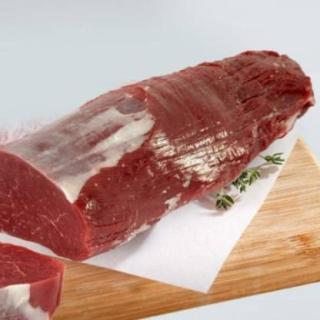Daging Sapi: (1, 52, 317, 263)
